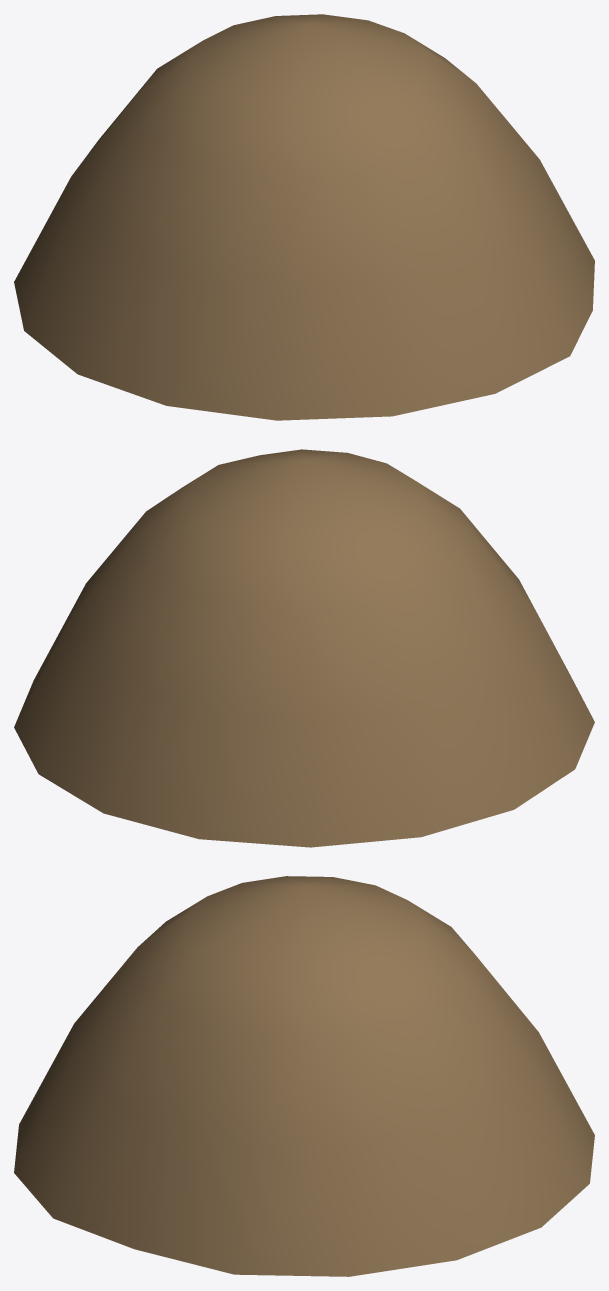
File: decor_5.fbx
3 renders of one model, top to bottom at view 1: azimuth 30°, elevation 25°; view 2: azimuth 150°, elevation 25°; view 3: azimuth 270°, elevation 25°, orthographic. The views are drawn at different scales.
Parts seen in each view (by area): view 1: Plane.030; view 2: Plane.030; view 3: Plane.030.
Boxes of the visible parts, x1,y1,x2,y2 form: Plane.030: [14, 14, 594, 420]; Plane.030: [14, 449, 594, 847]; Plane.030: [14, 876, 594, 1276].
Size of the model in its own units: 0.7746 by 0.3925 by 0.7746.
